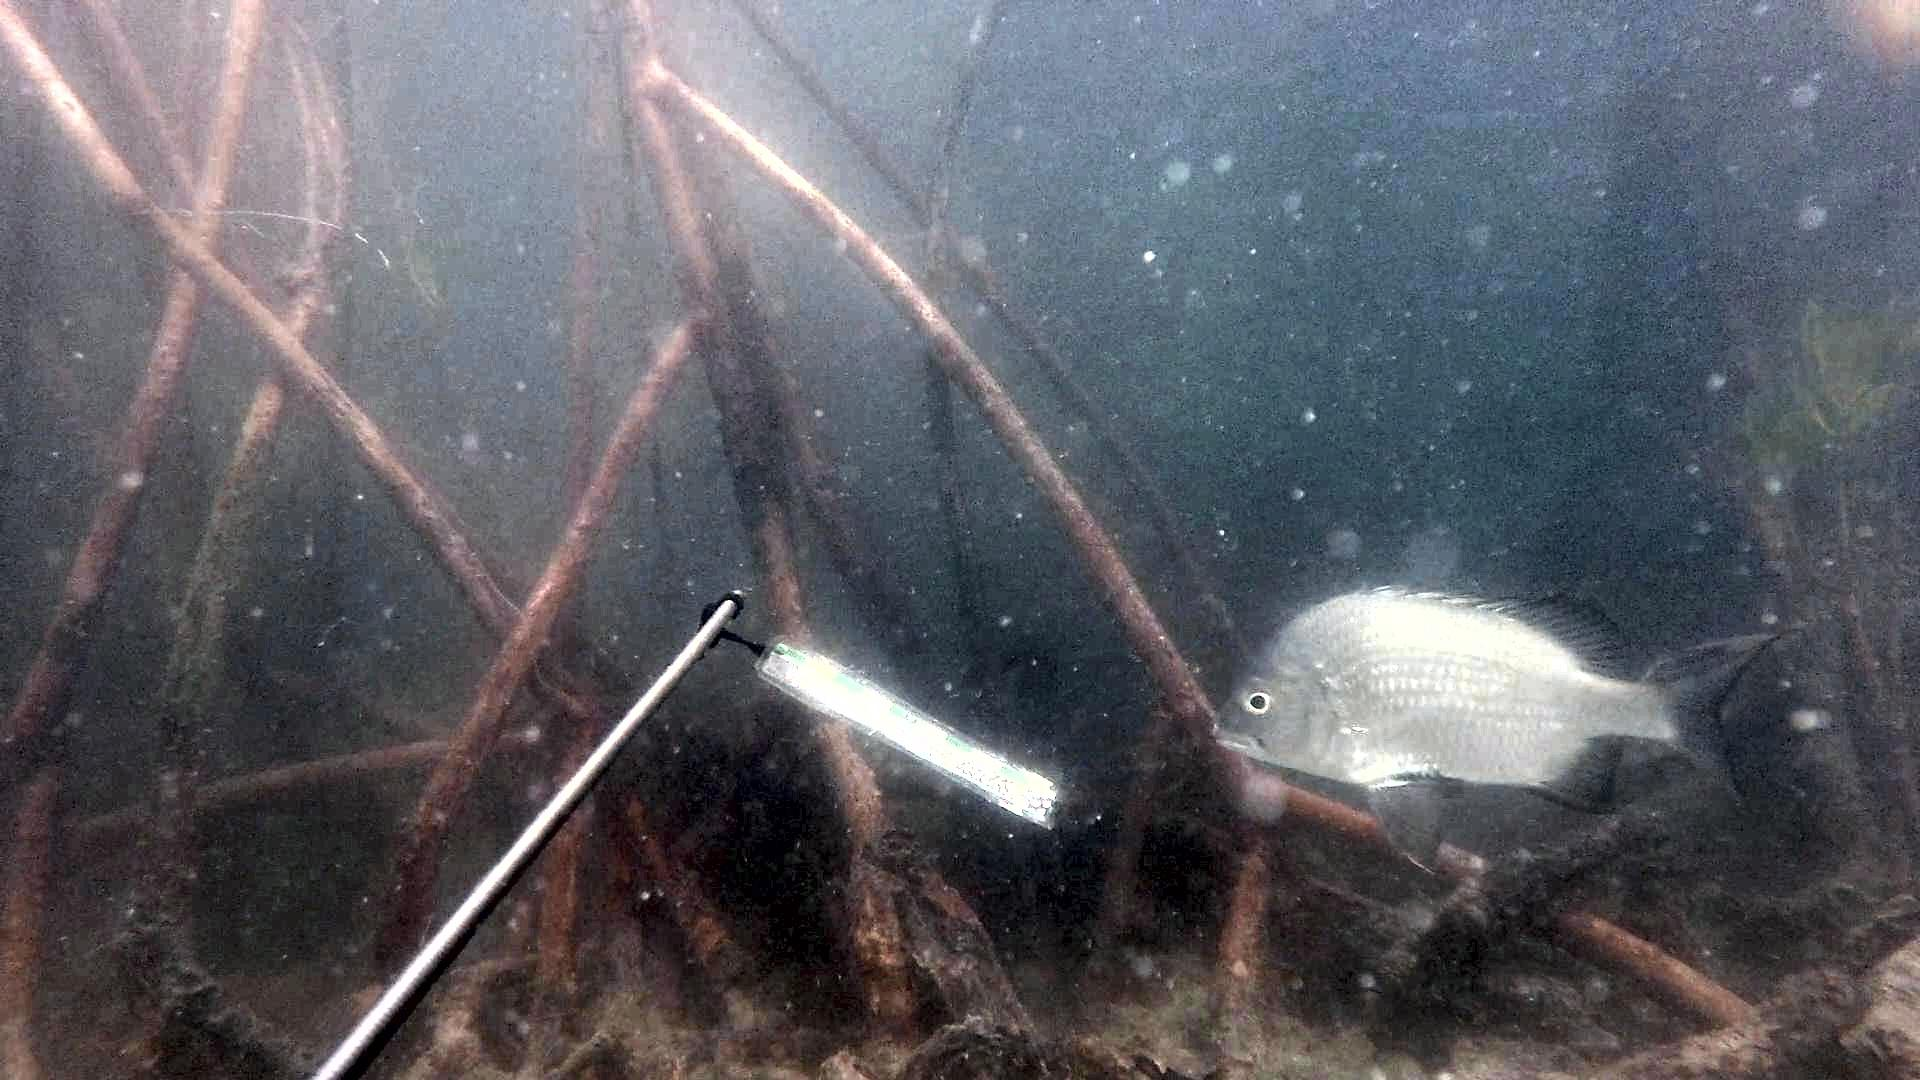acanthopagrus palmaris: (1201, 579, 1781, 878)
